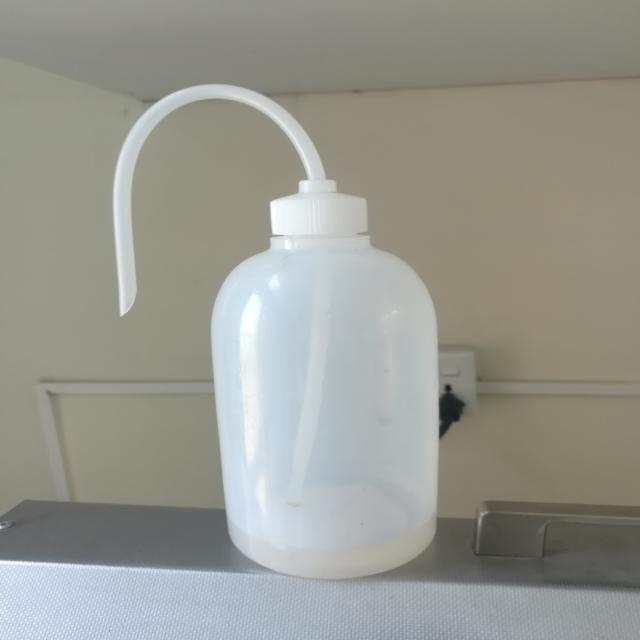Wash_Bottle: (78, 52, 473, 598)
